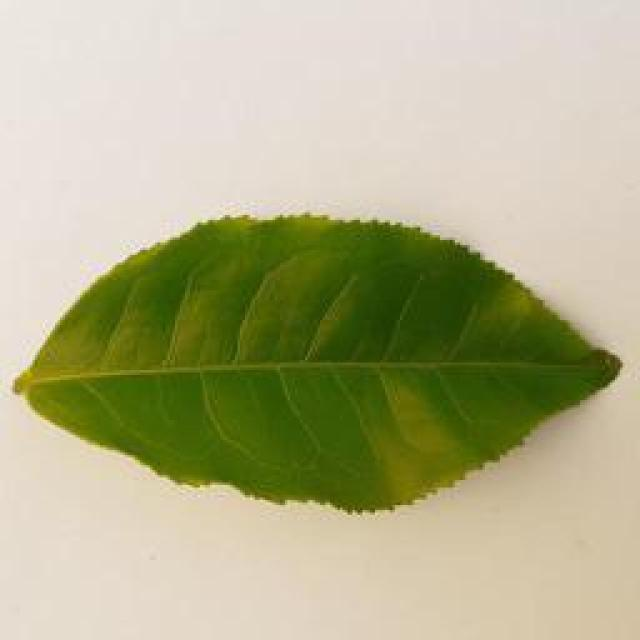Healthy: (0, 201, 640, 520)
